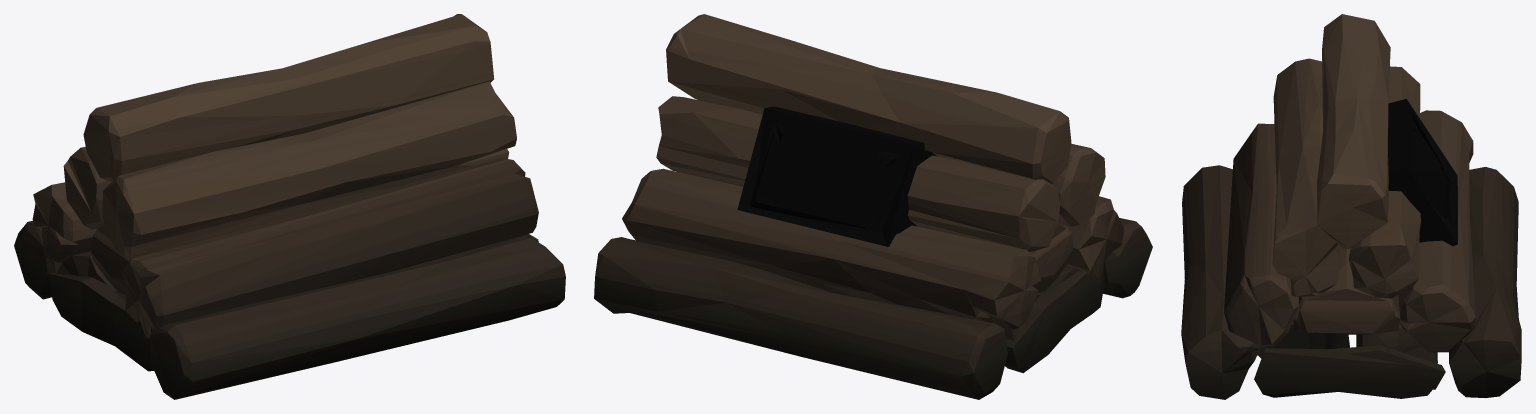
File: EA_Grave_LogPile_01a.glb
3 views of the same model, side by side, from view 1: azimuth 30°, elevation 25°; view 2: azimuth 150°, elevation 25°; view 3: azimuth 270°, elevation 25° (orthographic). The views are drawn at different scales.
Parts seen in each view (by area): view 1: EA_Grave_LogPile_01a; view 2: EA_Grave_LogPile_01a; view 3: EA_Grave_LogPile_01a.
Boxes of the visible parts, x1,y1,x2,y2 form: EA_Grave_LogPile_01a: (14, 14, 565, 399); EA_Grave_LogPile_01a: (594, 14, 1152, 399); EA_Grave_LogPile_01a: (1181, 14, 1521, 399).
Bounding box in the file's own units: 2.77 × 1.63 × 2.23.
Materials: 1 (1 with a texture image).
